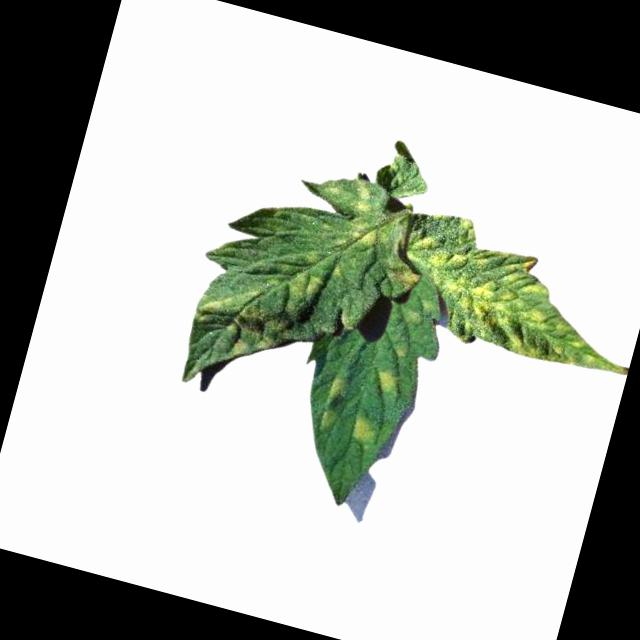Leaf_Mold: (387, 204, 640, 379), (188, 276, 304, 371), (338, 173, 395, 249), (314, 370, 353, 436), (287, 247, 331, 305), (368, 366, 401, 403), (350, 414, 378, 447)
